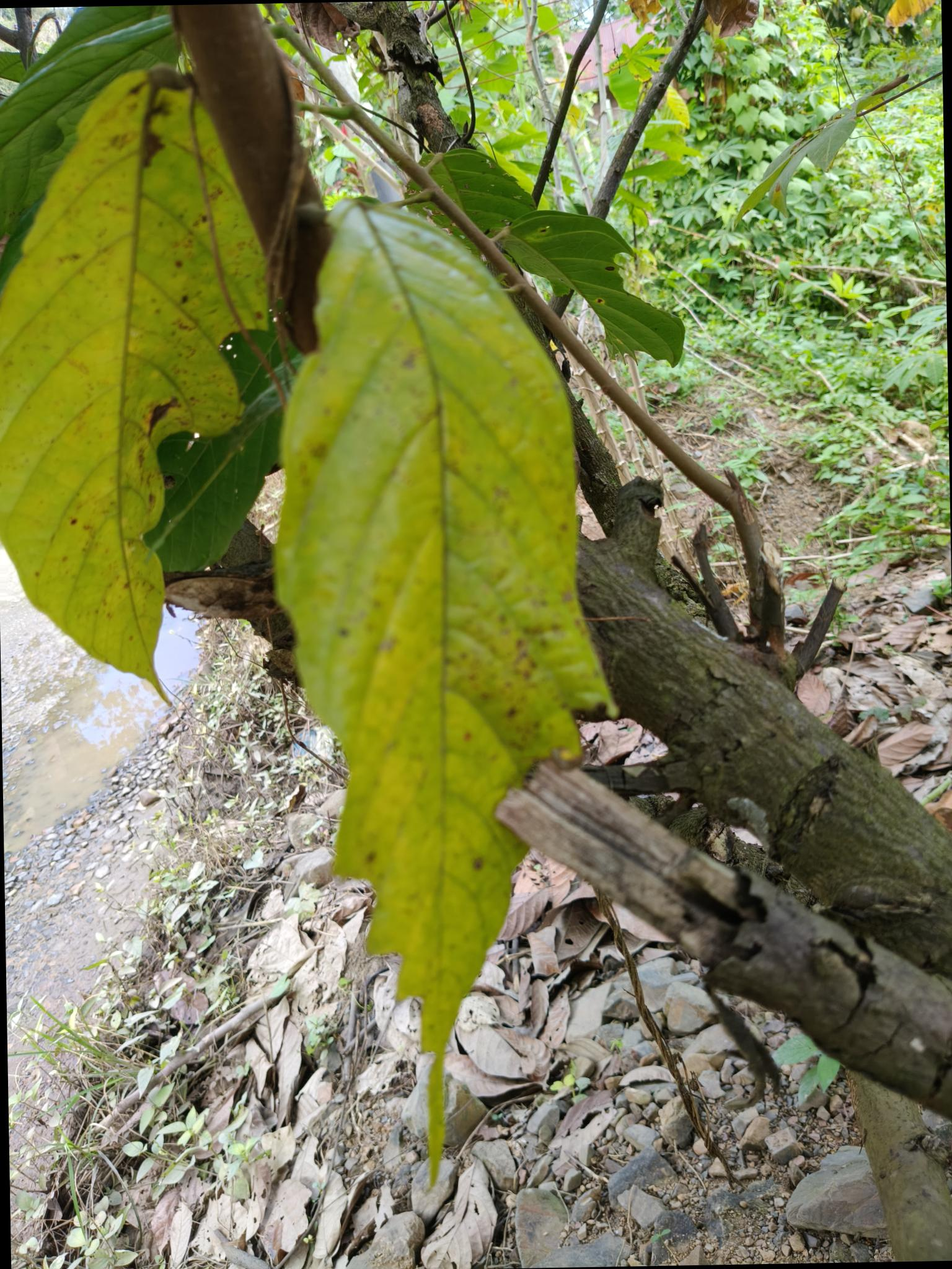Fosforo: (276, 202, 609, 1179), (0, 71, 266, 690)
